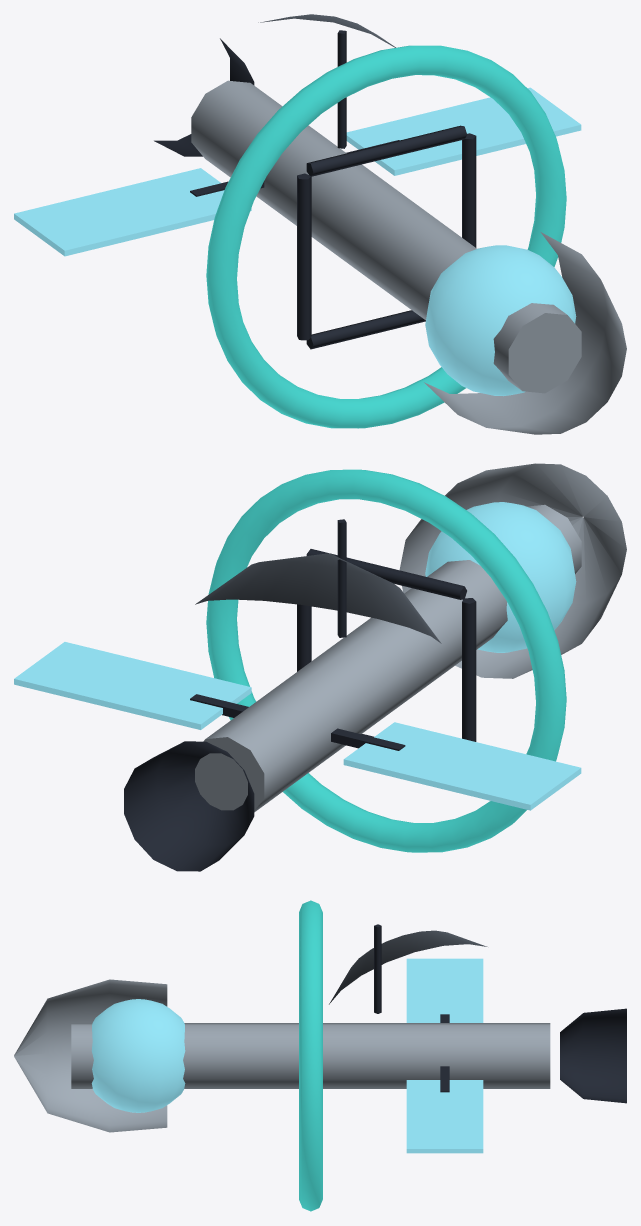
Rendered from researchVessel.glb.
The picture shows the model from 3 angles, top to bottom: view 1: azimuth 30°, elevation 25°; view 2: azimuth 150°, elevation 25°; view 3: azimuth 270°, elevation 25°; orthographic projection. The views are drawn at different scales.
Parts seen in each view (by area): view 1: researchVessel; view 2: researchVessel; view 3: researchVessel.
Boxes of the visible parts, x1,y1,x2,y2 form: researchVessel: (14, 14, 626, 434); researchVessel: (14, 463, 626, 871); researchVessel: (14, 900, 626, 1211).
Bounding box in the file's own units: 0.94 × 0.65 × 1.28.
